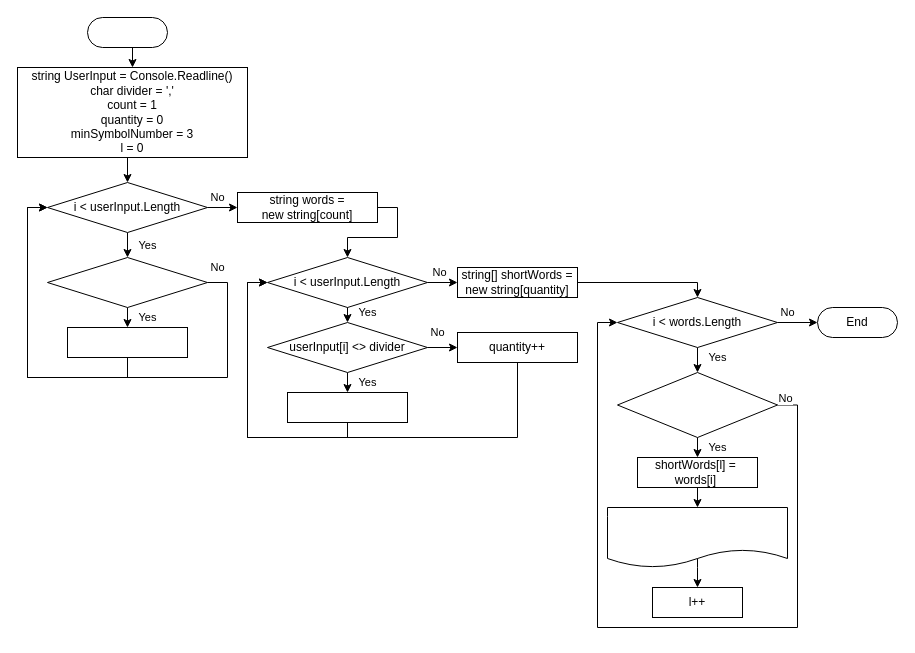
This 915x653 diagram has some shape labels left out. The box of each missing label's shape, as (x1, y1, x2, y2) in pixels:
Console.Writeline(shortwords[l]: (606, 506, 788, 568)
count++: (66, 326, 188, 358)
Start: (86, 16, 168, 48)
userInput[i] = divider: (46, 256, 208, 308)
words[i].Length <= minSymbolNumber: (616, 372, 778, 438)
words[quantity] += userInput[i]: (286, 392, 408, 422)
